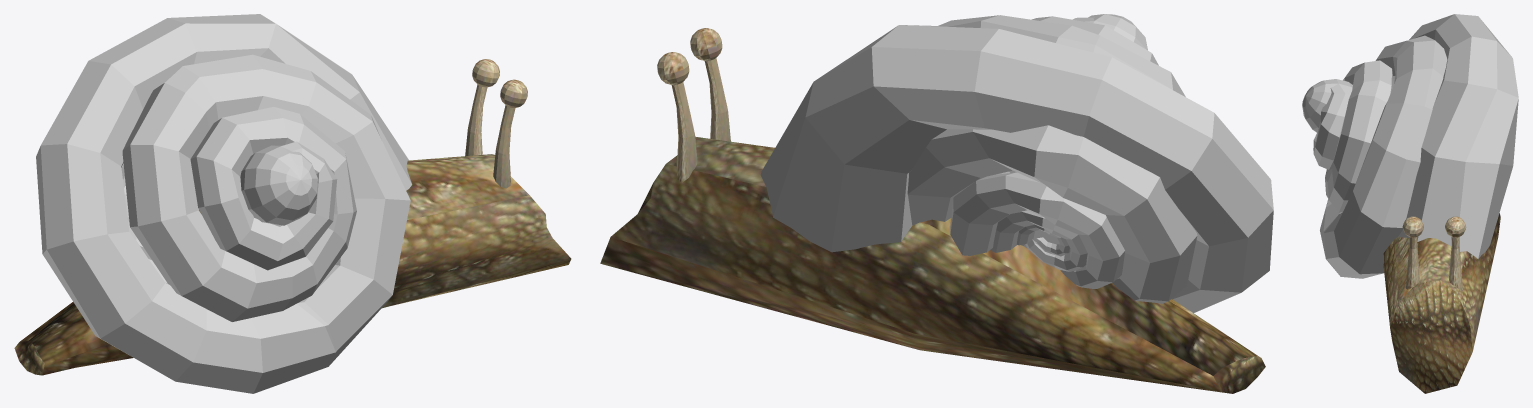
File: snail.fbx
The picture shows the model from 3 angles, left to right: view 1: azimuth 30°, elevation 25°; view 2: azimuth 150°, elevation 25°; view 3: azimuth 270°, elevation 25°; orthographic projection. The views are drawn at different scales.
Parts seen in each view (by area): view 1: shell, body; view 2: shell, body; view 3: shell, body.
Part boxes in pixels (<box>): shell: <box>36,14,411,393</box>; body: <box>14,59,571,375</box>; shell: <box>760,14,1273,312</box>; body: <box>600,28,1265,393</box>; shell: <box>1302,14,1518,278</box>; body: <box>1383,213,1500,393</box>.
Size of the model in its own units: 361 by 196 by 167.
